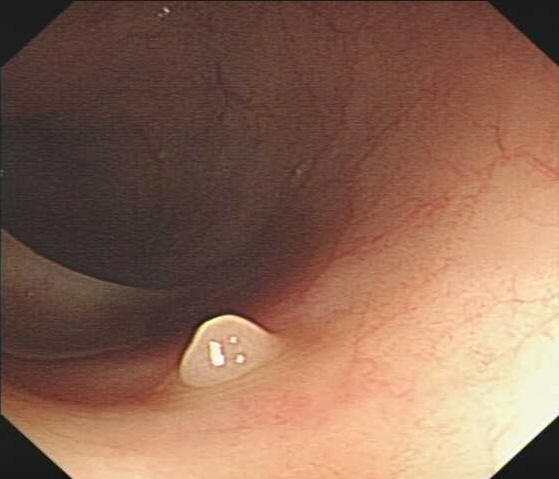others: (176, 312, 285, 390)
